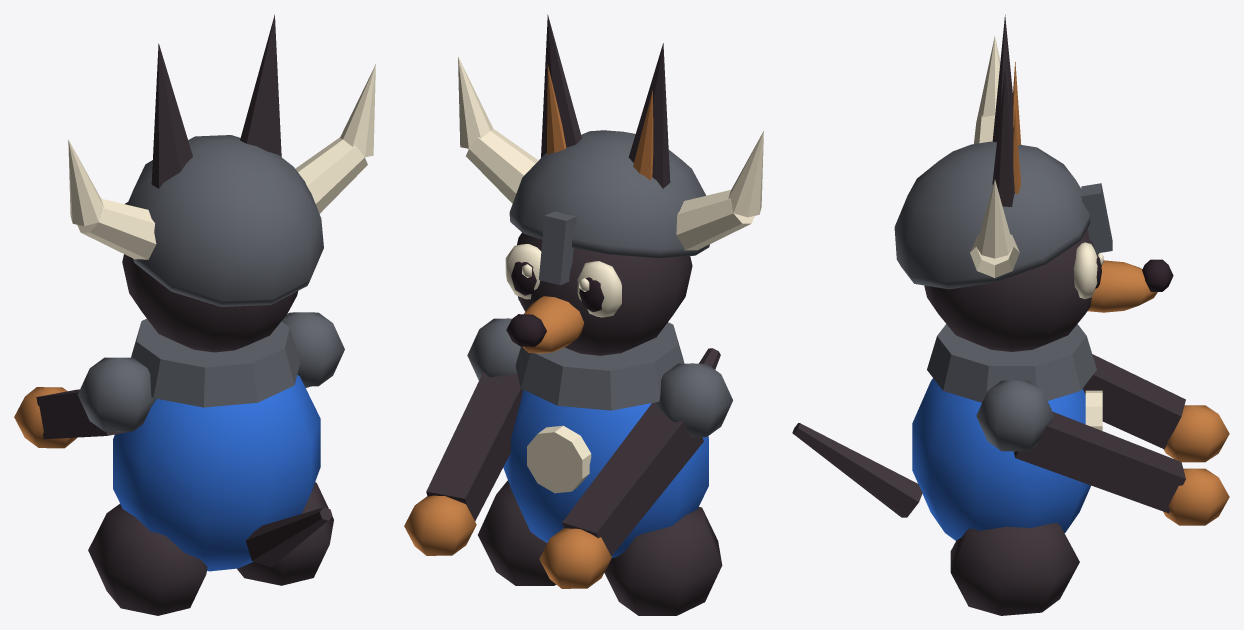
The model's file is char_dog_bolt.glb.
3 views of the same model, side by side, from view 1: azimuth 30°, elevation 25°; view 2: azimuth 150°, elevation 25°; view 3: azimuth 270°, elevation 25° (orthographic). The views are drawn at different scales.
Parts seen in each view (by area): view 1: Body, Helmet, HeadMesh, Ear_L, Ear_R, Tail; view 2: Body, Helmet, HeadMesh, Ear_L, Ear_R; view 3: Body, Helmet, HeadMesh, Tail, Ear_R, Ear_L.
Boxes of the visible parts, <box> form: Body: <box>14,312,344,615</box>; Helmet: <box>68,64,375,306</box>; HeadMesh: <box>122,202,297,352</box>; Ear_L: <box>151,43,192,188</box>; Ear_R: <box>240,14,281,156</box>; Tail: <box>246,507,332,567</box>; Body: <box>404,318,732,615</box>; Helmet: <box>458,56,763,285</box>; HeadMesh: <box>505,232,692,355</box>; Ear_L: <box>628,43,670,188</box>; Ear_R: <box>541,14,581,157</box>; Body: <box>912,324,1229,615</box>; Helmet: <box>894,36,1112,289</box>; HeadMesh: <box>924,228,1173,351</box>; Tail: <box>792,423,922,517</box>; Ear_R: <box>992,68,1021,206</box>; Ear_L: <box>992,14,1021,144</box>.
Bounding box in the file's own units: 0.9956 × 1.77 × 1.29.
